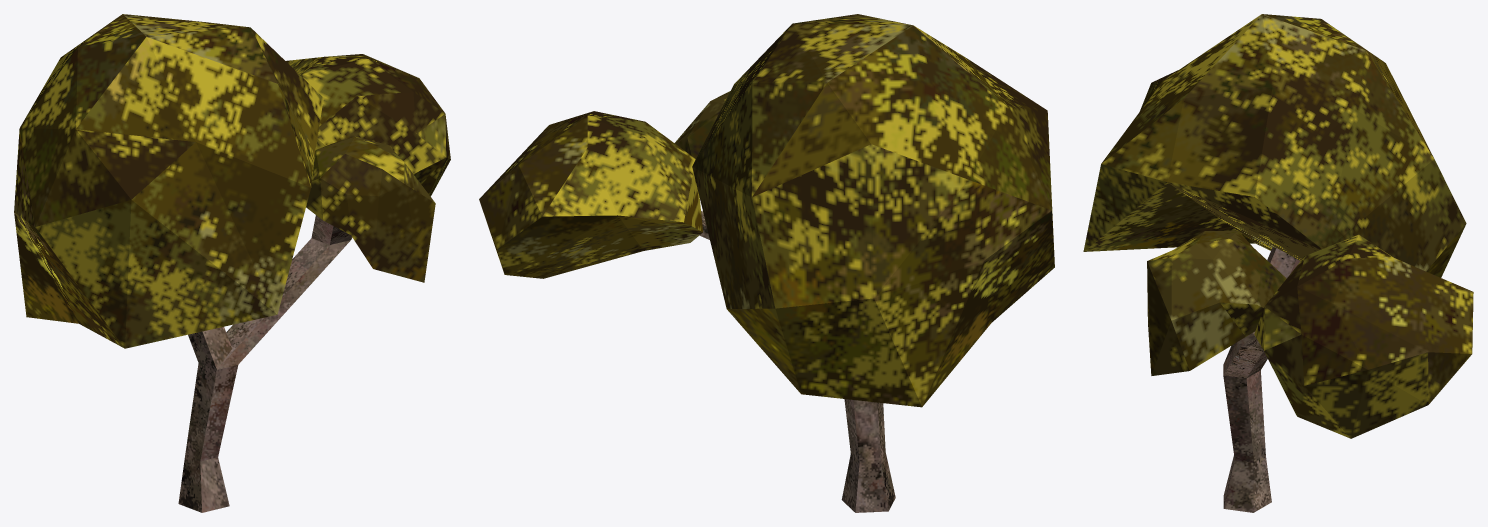
The model's file is Baum1.fbx.
3 views of the same model, side by side, from view 1: azimuth 30°, elevation 25°; view 2: azimuth 150°, elevation 25°; view 3: azimuth 270°, elevation 25° (orthographic). The views are drawn at different scales.
Visible parts, largest first — view 1: Cylinder.003; view 2: Cylinder.003; view 3: Cylinder.003.
Boxes of the visible parts, bbox=[...] form: Cylinder.003: bbox=[14, 14, 450, 512]; Cylinder.003: bbox=[479, 14, 1054, 512]; Cylinder.003: bbox=[1083, 14, 1473, 512].
Bounding box in the file's own units: 1960 × 1918 × 1460.
2 materials, 2 textured.
